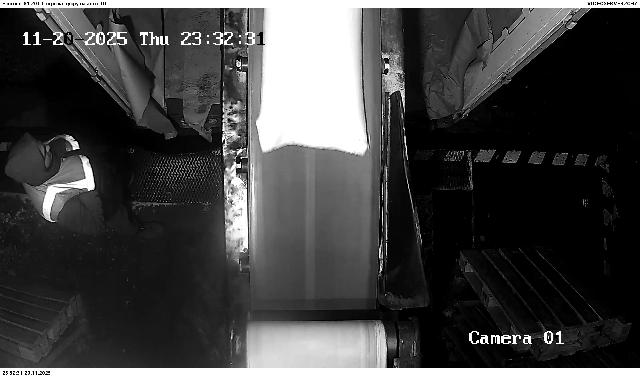bag: (256, 8, 368, 157)
